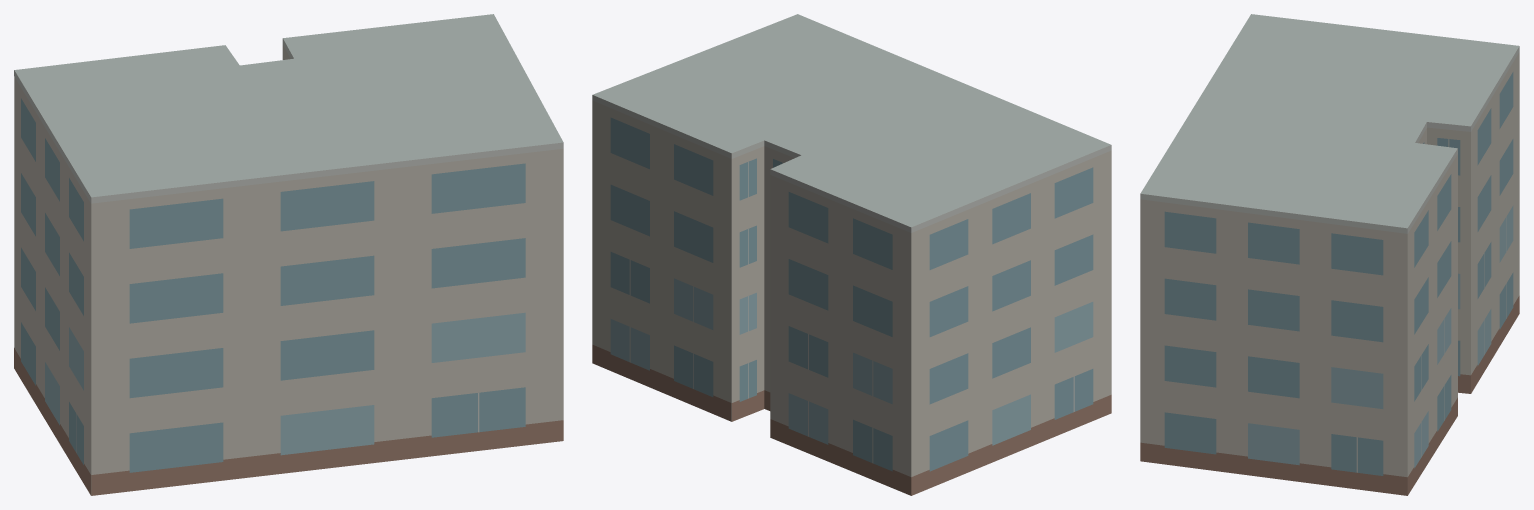
The model's file is survey-upis-32874492.glb.
3 views of the same model, side by side, from view 1: azimuth 30°, elevation 25°; view 2: azimuth 150°, elevation 25°; view 3: azimuth 270°, elevation 25° (orthographic). The views are drawn at different scales.
Visible parts, largest first — view 1: survey-upis-32874492.tmp; view 2: survey-upis-32874492.tmp; view 3: survey-upis-32874492.tmp.
Boxes of the visible parts, bbox=[...] form: survey-upis-32874492.tmp: bbox=[14, 14, 563, 495]; survey-upis-32874492.tmp: bbox=[592, 14, 1111, 495]; survey-upis-32874492.tmp: bbox=[1140, 14, 1519, 495].
Bounding box in the file's own units: 20.02 × 11.65 × 14.98.
